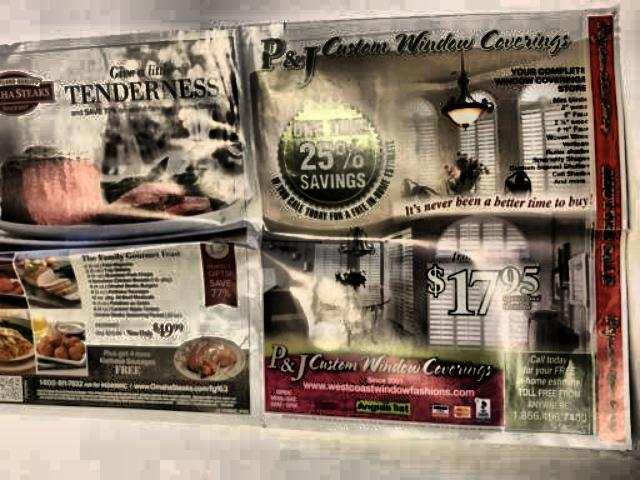Paper: (0, 0, 631, 444)
